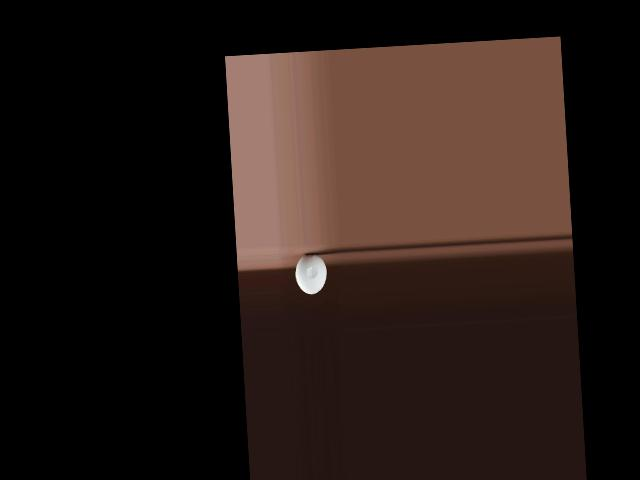egg: (294, 253, 327, 295)
